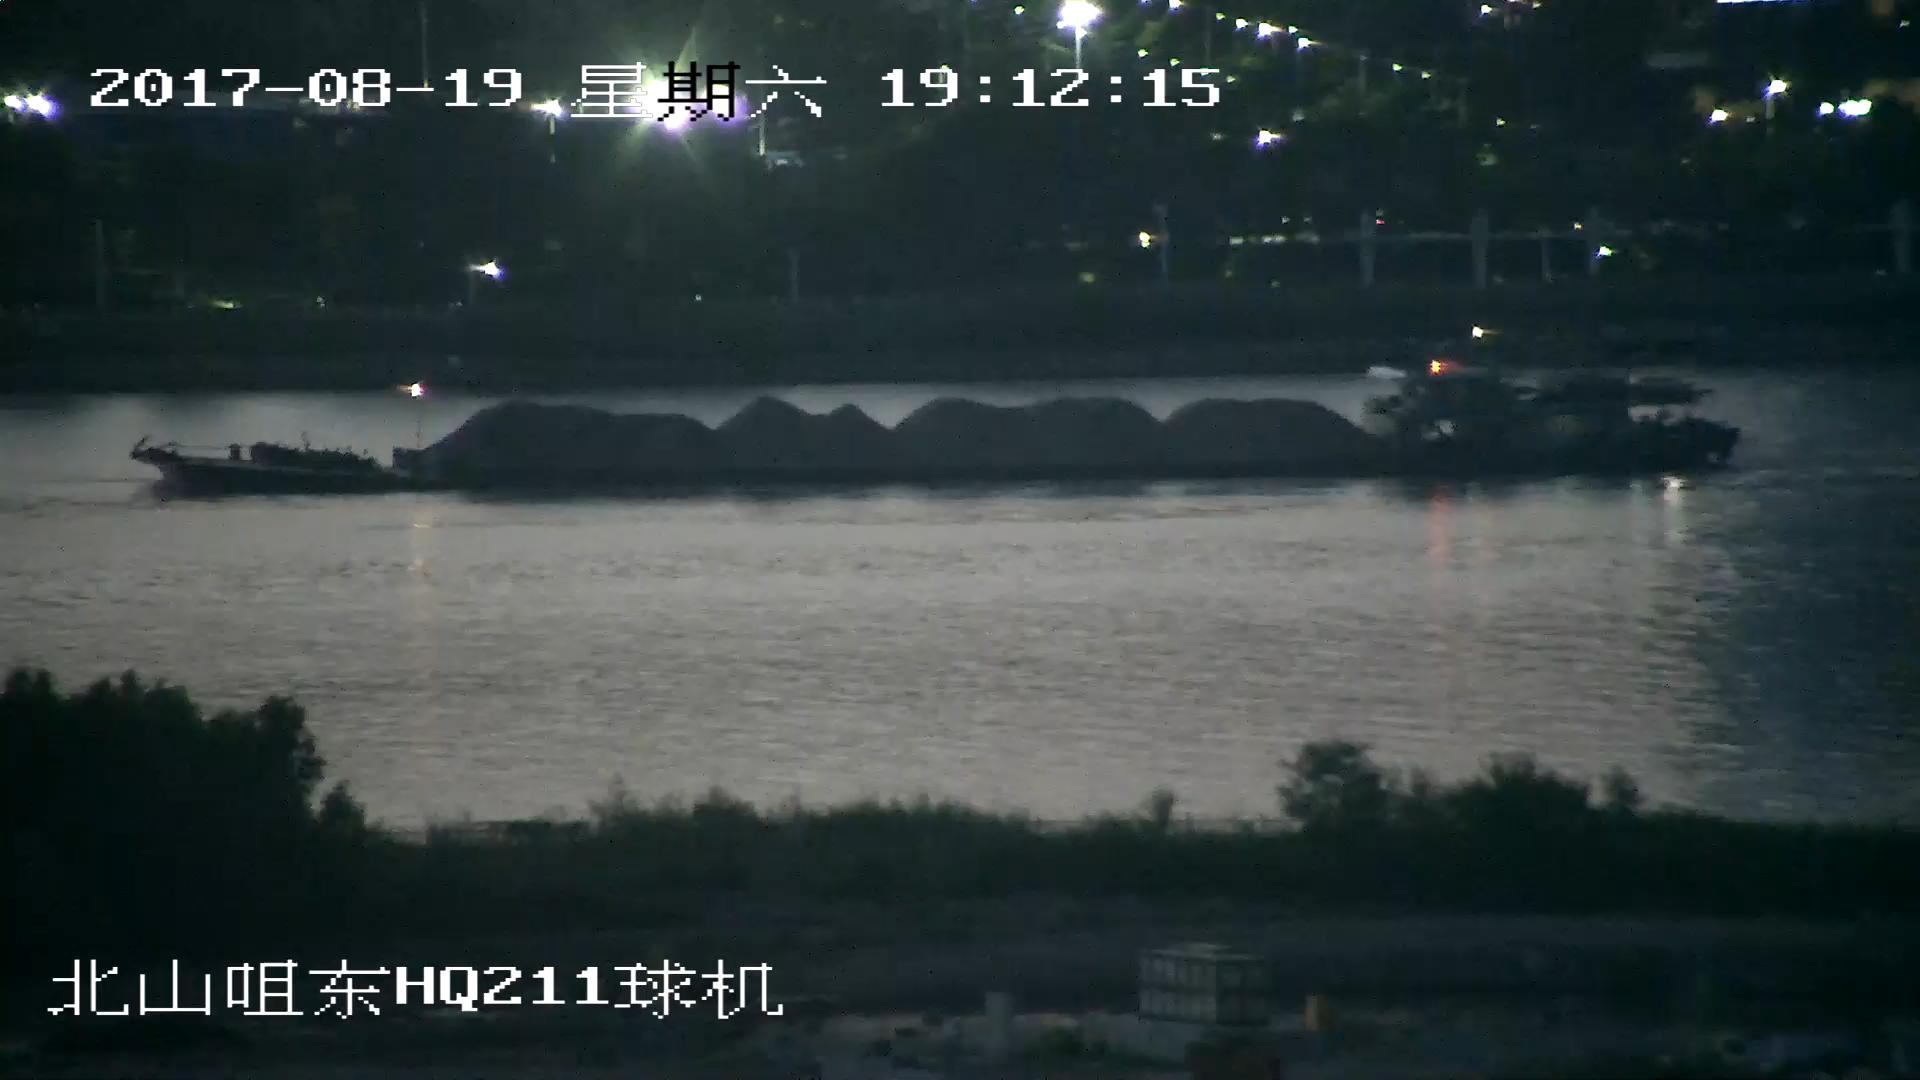ore carrier: (124, 364, 1744, 510)
